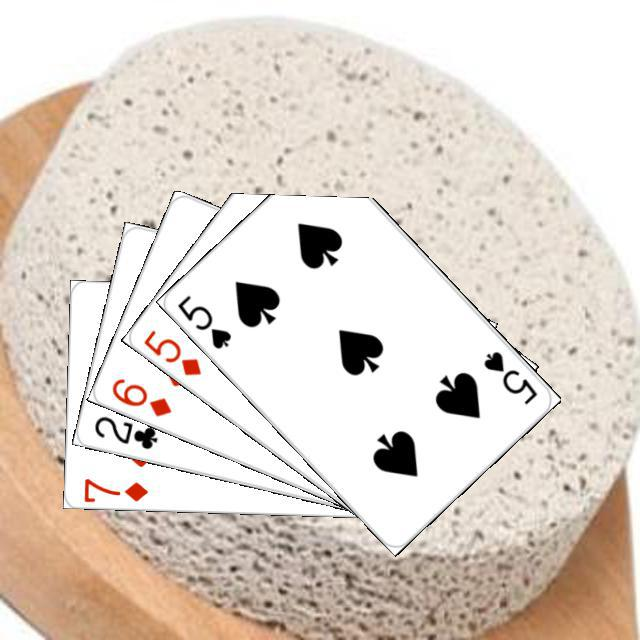2c: (89, 411, 160, 451)
5d: (138, 324, 203, 378)
5s: (172, 289, 233, 351), (478, 346, 540, 407)
6d: (106, 373, 174, 419)
7d: (79, 474, 150, 503)
